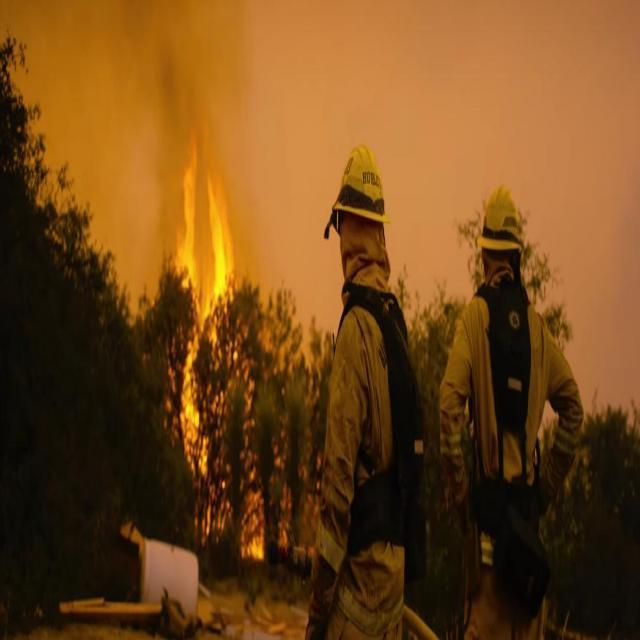Fire: (162, 111, 274, 569)
